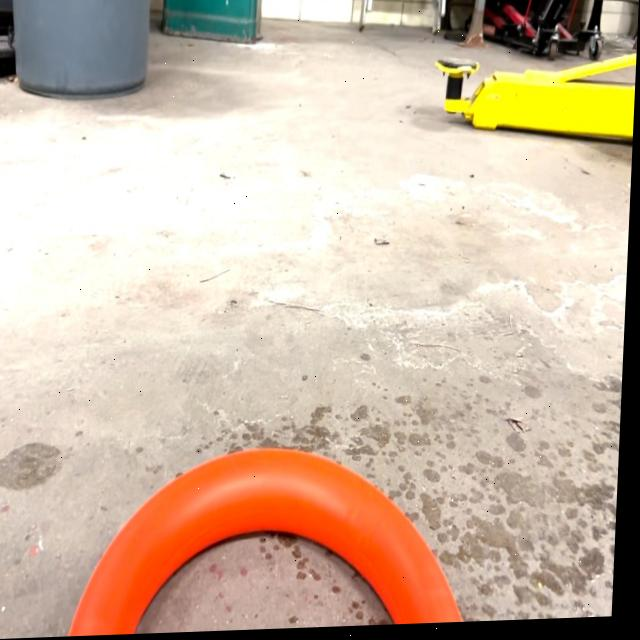note: (71, 444, 480, 637)
